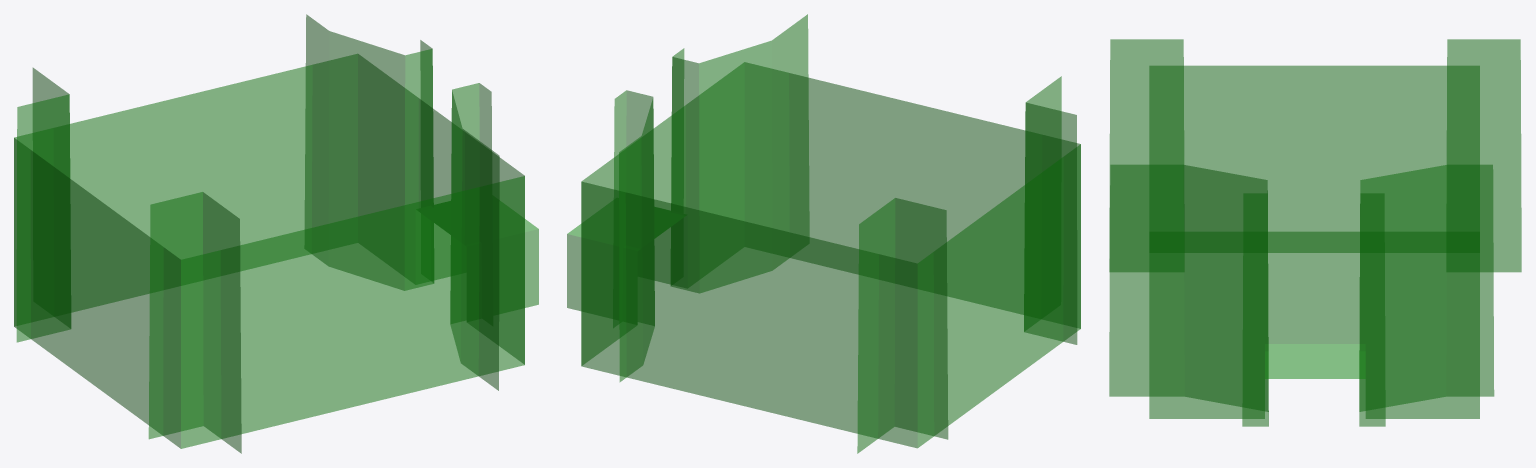
Rendered from warpgate_wall.obj.
The picture shows the model from 3 angles, left to right: view 1: azimuth 30°, elevation 25°; view 2: azimuth 150°, elevation 25°; view 3: azimuth 270°, elevation 25°; orthographic projection. The views are drawn at different scales.
Bounding box in the file's own units: 35.73 × 18.62 × 29.95.
